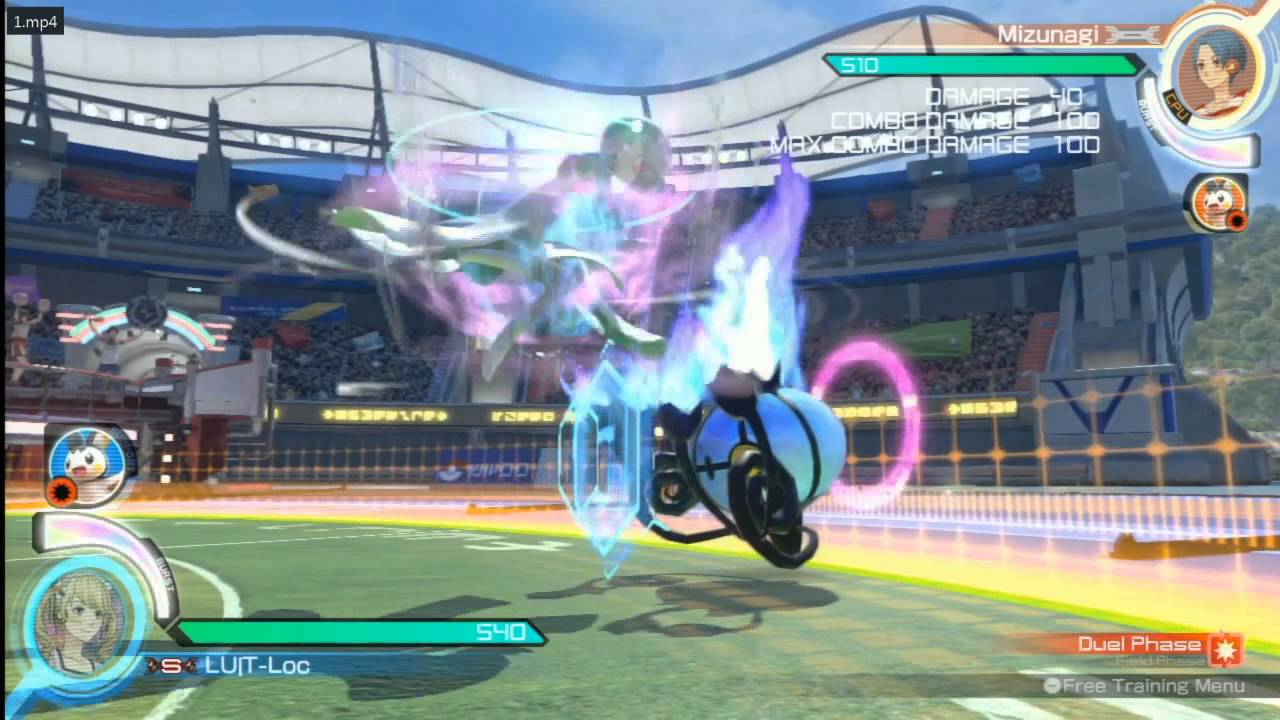gardevoir: (336, 106, 686, 398)
